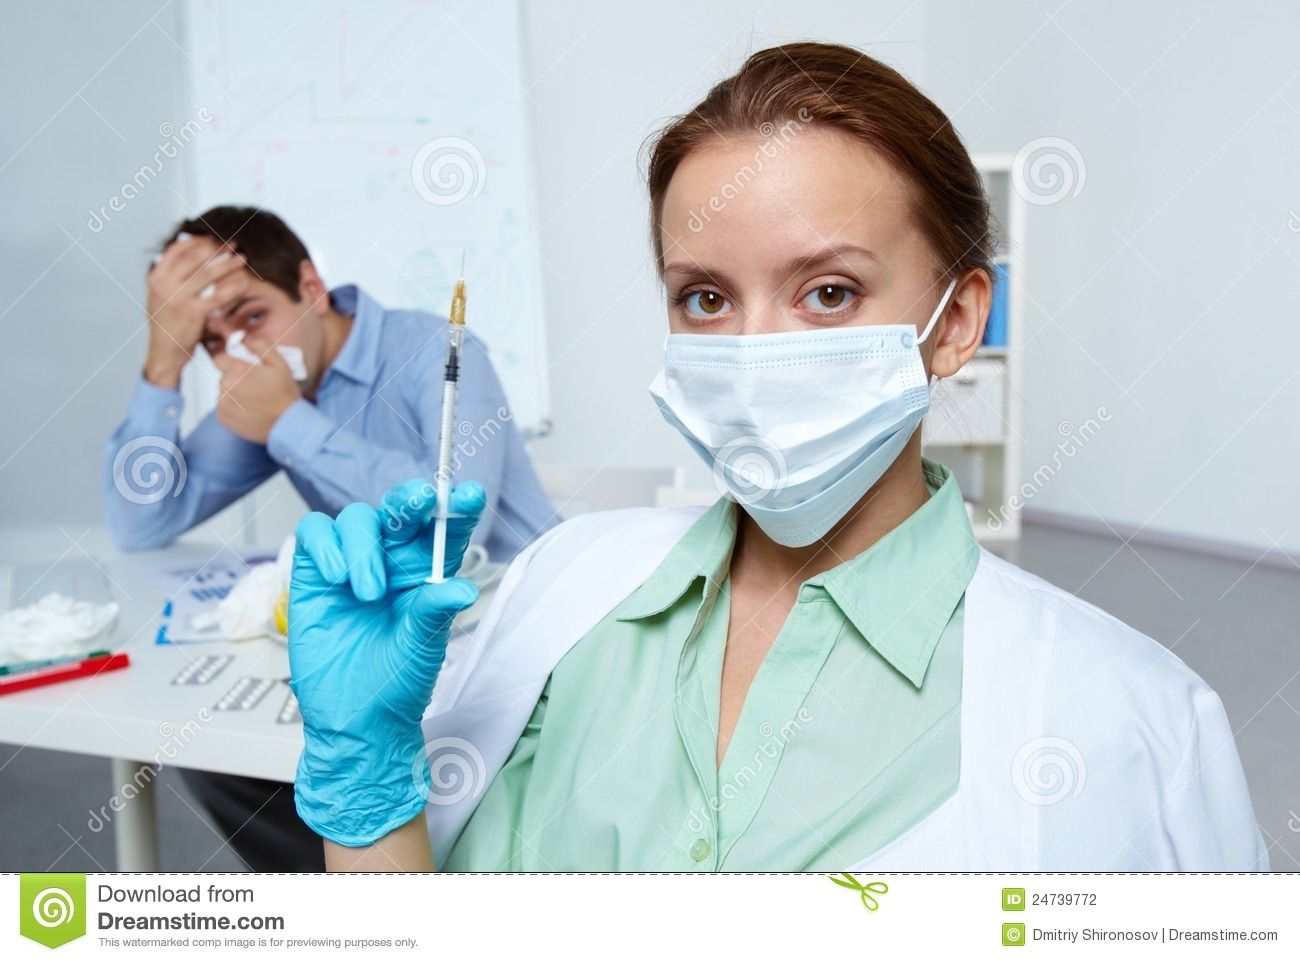mask: (646, 333, 934, 550)
